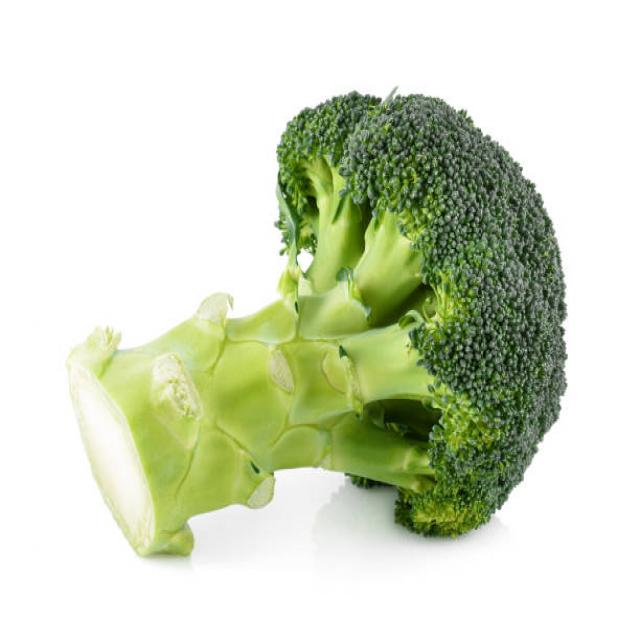Broccoli head: (46, 72, 604, 585)
